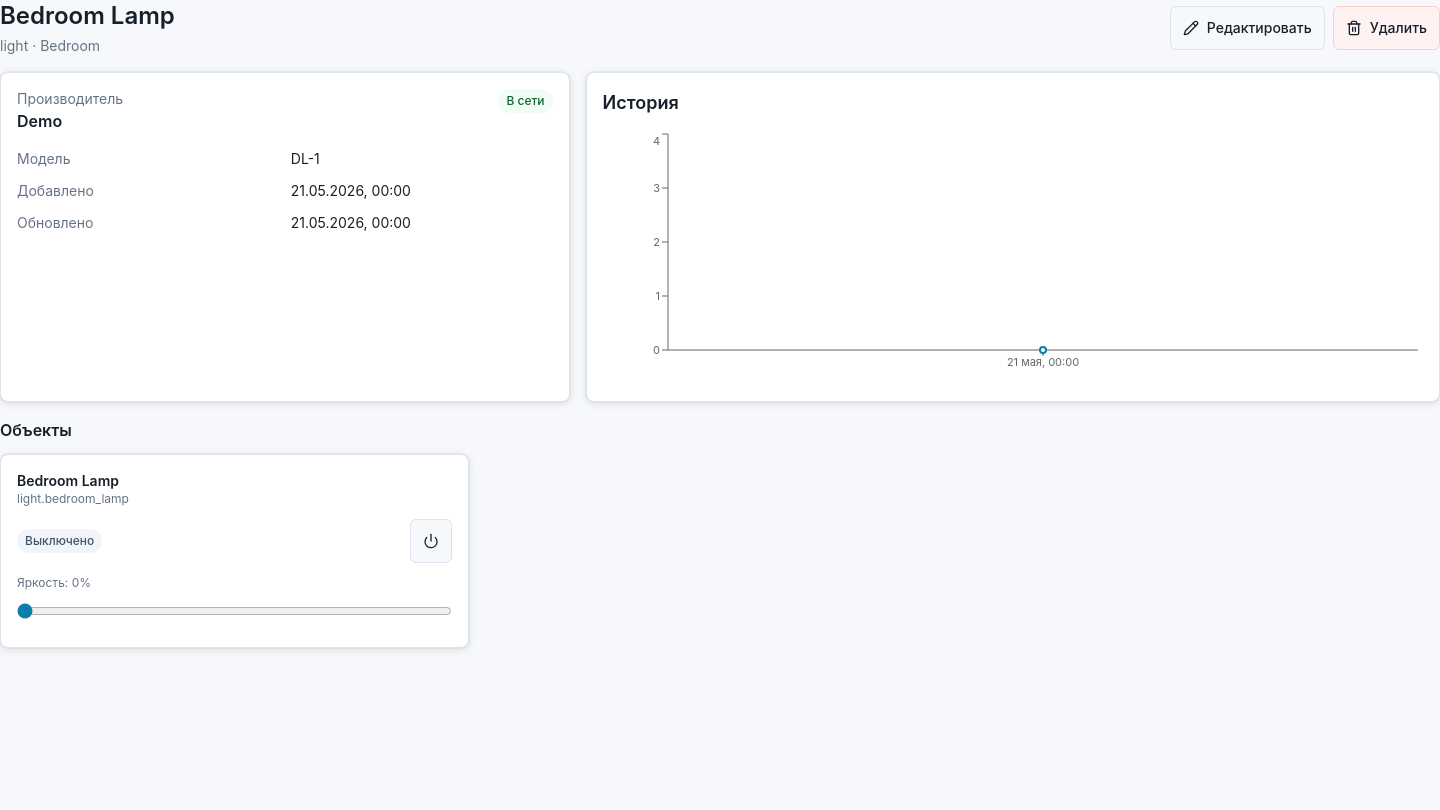
Scenario: device CRUD pages › edits an existing device and redirects after delete without breaking detail rendering
Expected: the text "light.bedroom_lamp" is shown, [17, 491, 129, 506]
Expected: the text "Demo" is shown, [17, 111, 62, 131]
Click the button "Редактировать" at (1247, 28), box [1170, 6, 1325, 50]
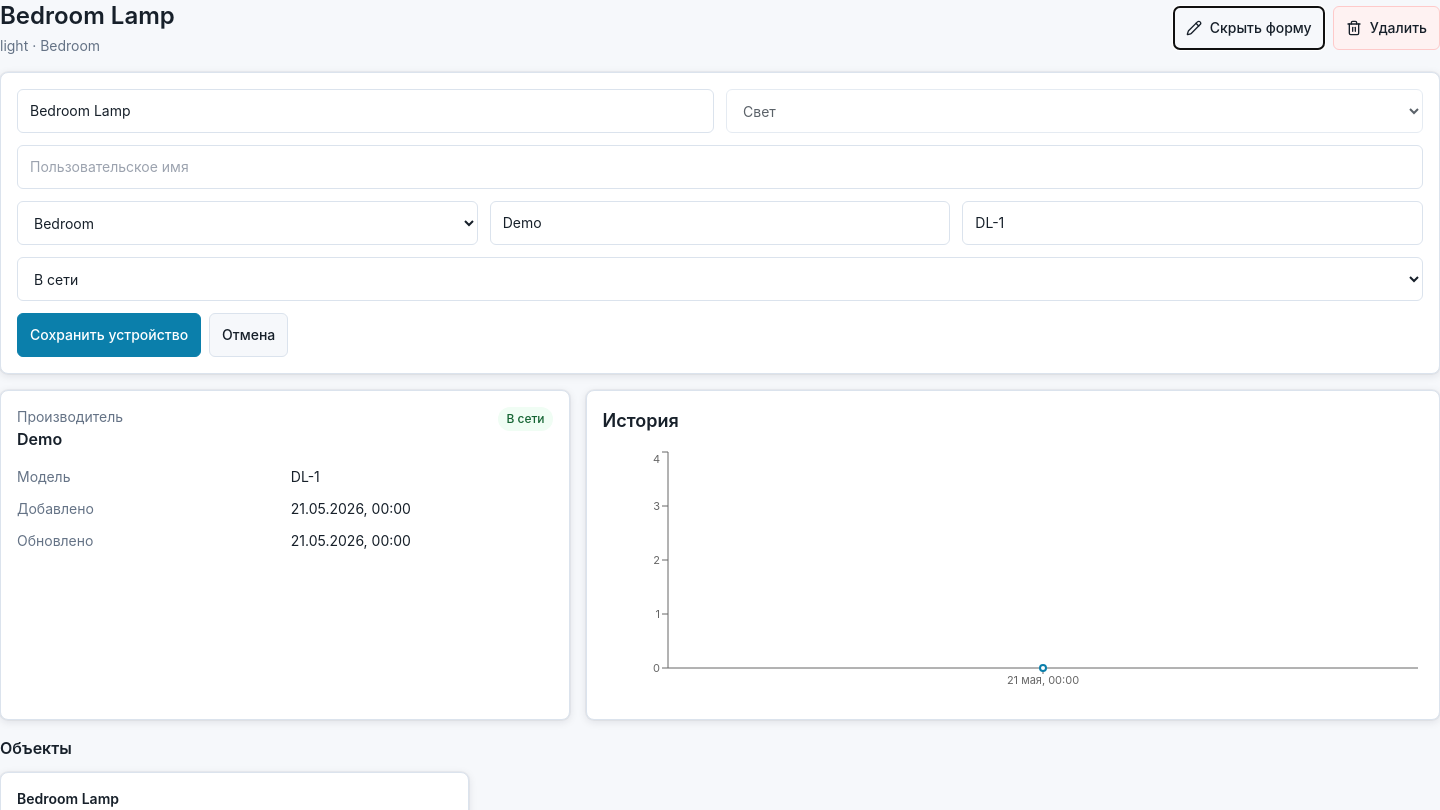
Type "Reading Lamp" into the field labelled "Пользовательское имя" at (720, 167), box [17, 145, 1423, 189]
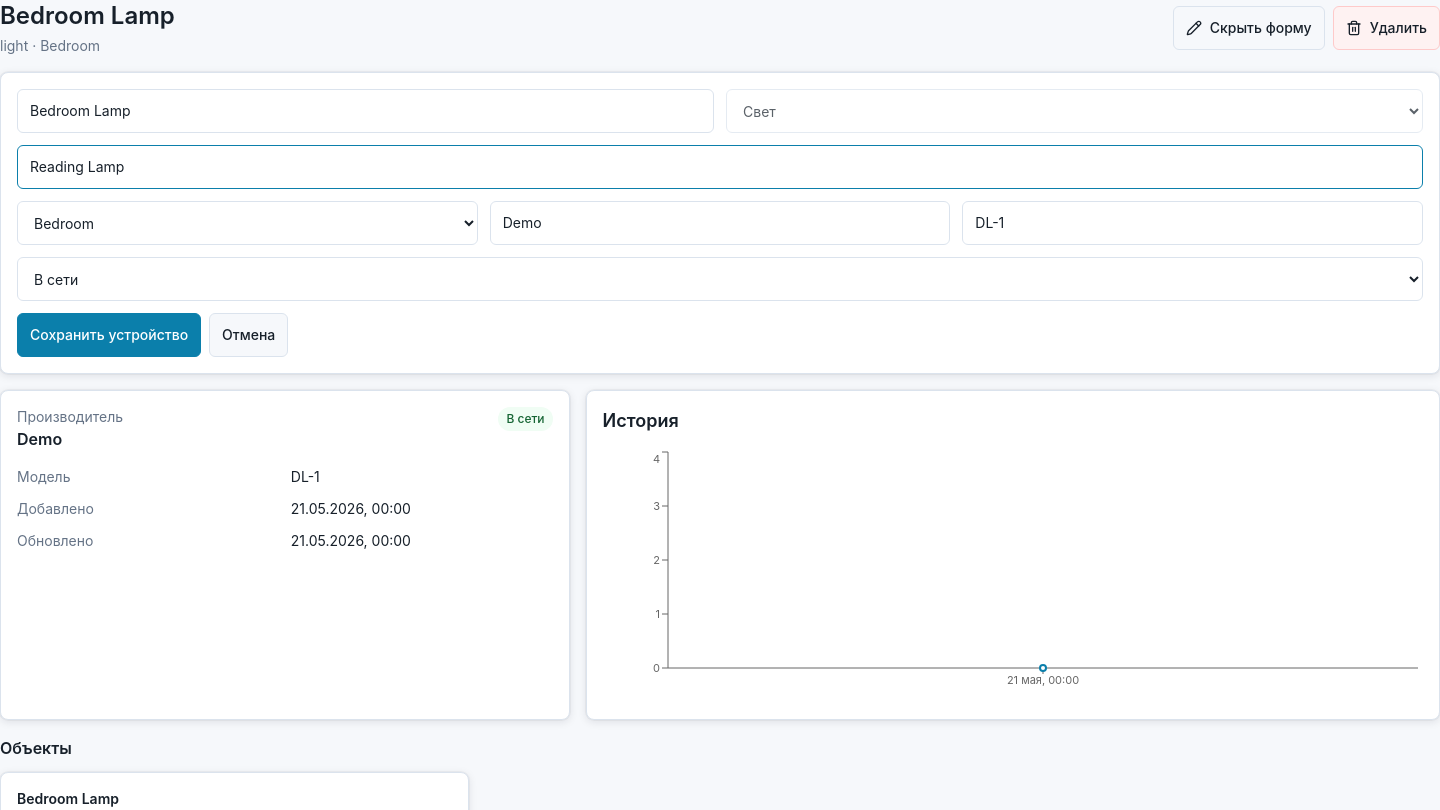
Select "Living Room" in the dropdown named "Зона устройства" at (247, 223), box [17, 201, 478, 245]
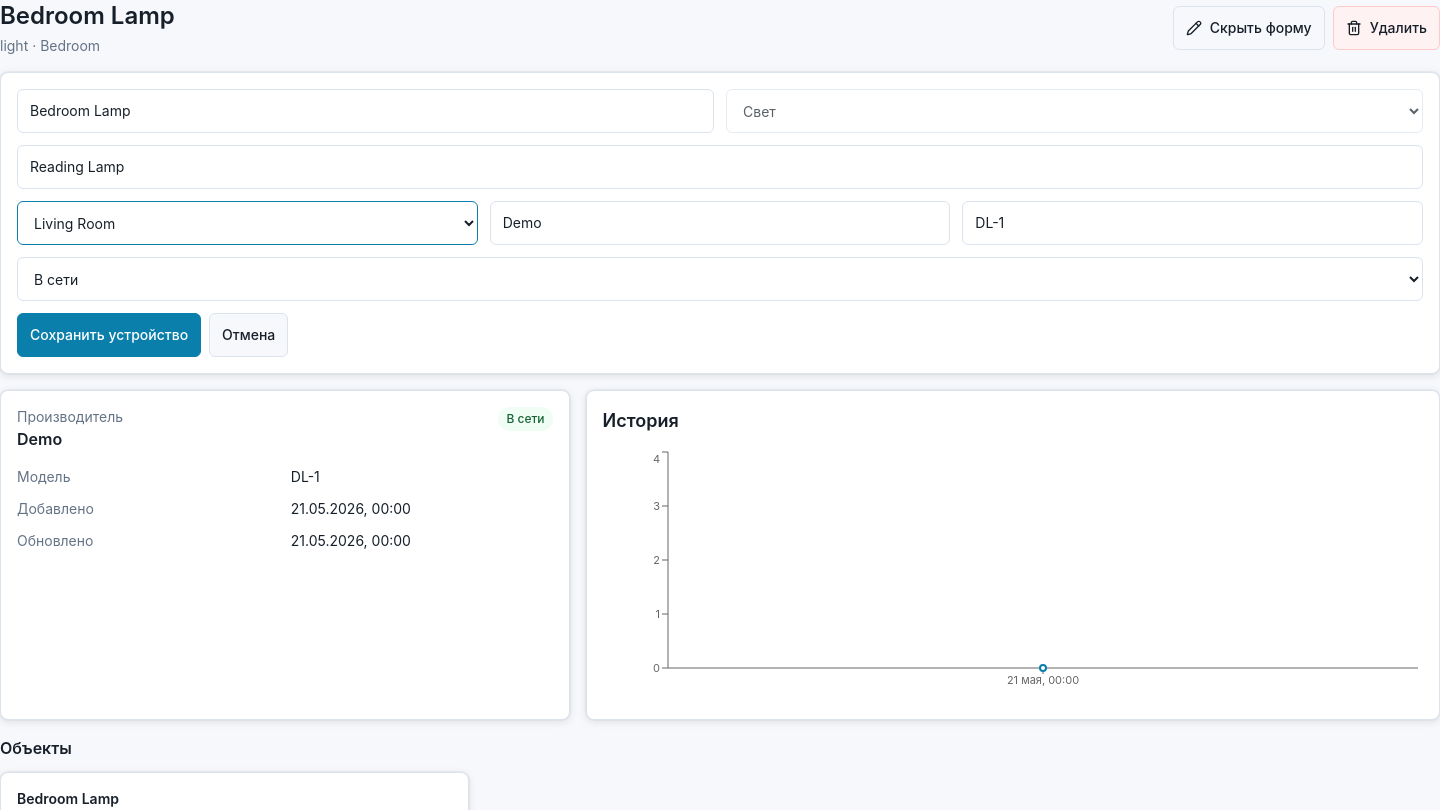
Click the button "Сохранить устройство" at (109, 335), box [17, 313, 201, 357]
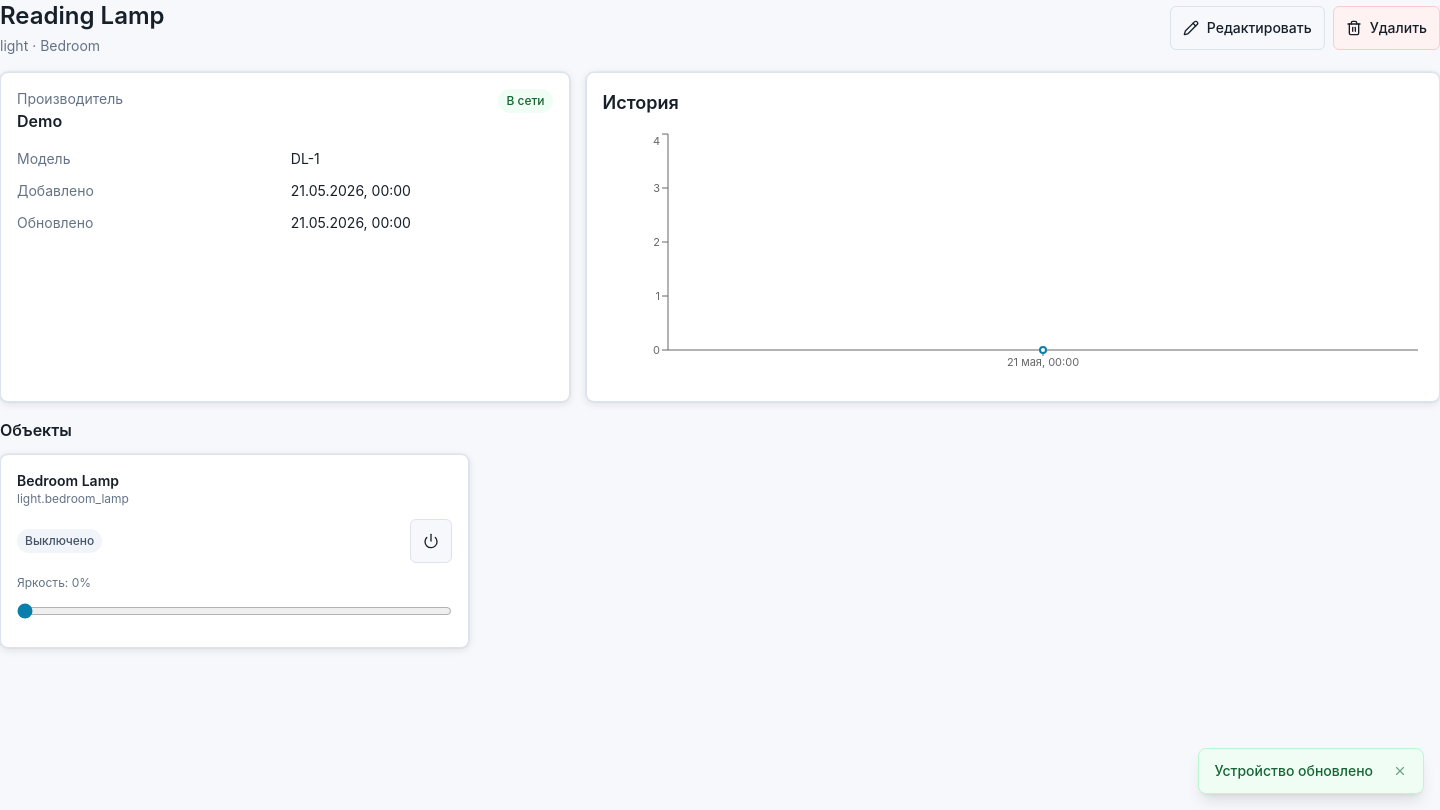
Click the button "Удалить" at (1386, 28), box [1333, 6, 1439, 50]
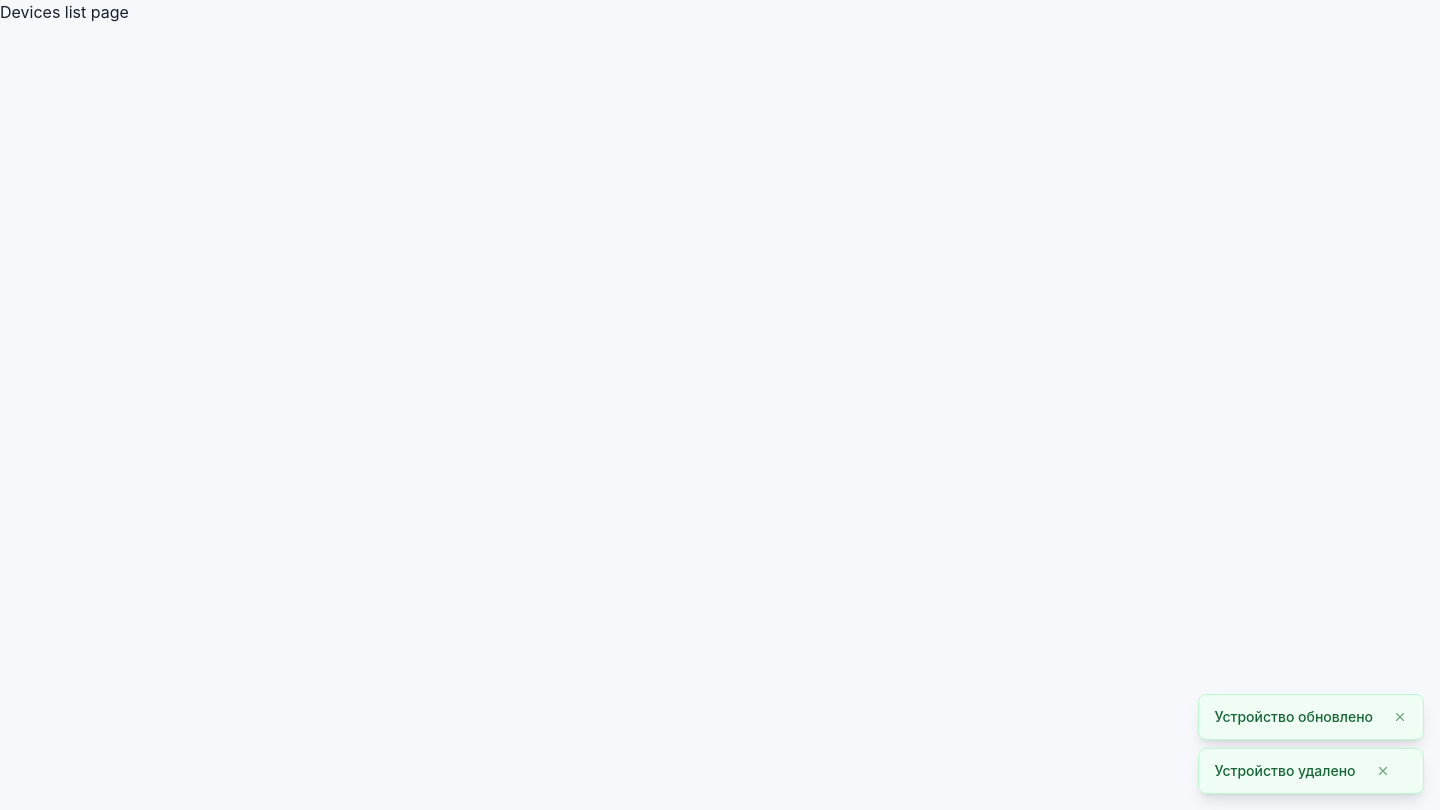
Now the text "Devices list page" is shown, box [0, 2, 129, 22]
